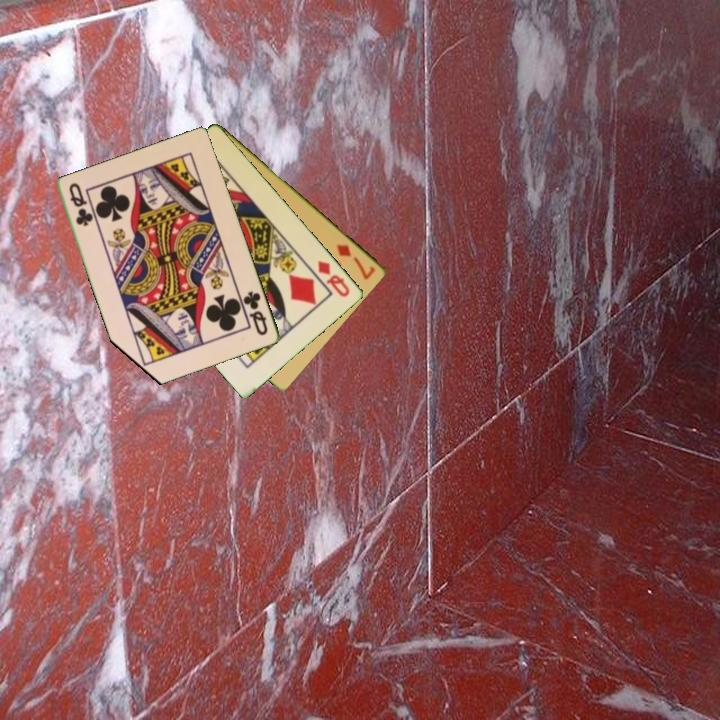7d: (333, 241, 379, 283)
Qc: (240, 287, 271, 339), (66, 179, 95, 230)
Qd: (314, 257, 353, 300)
